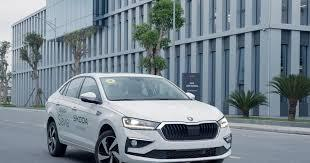skoda: (181, 113, 197, 122)
